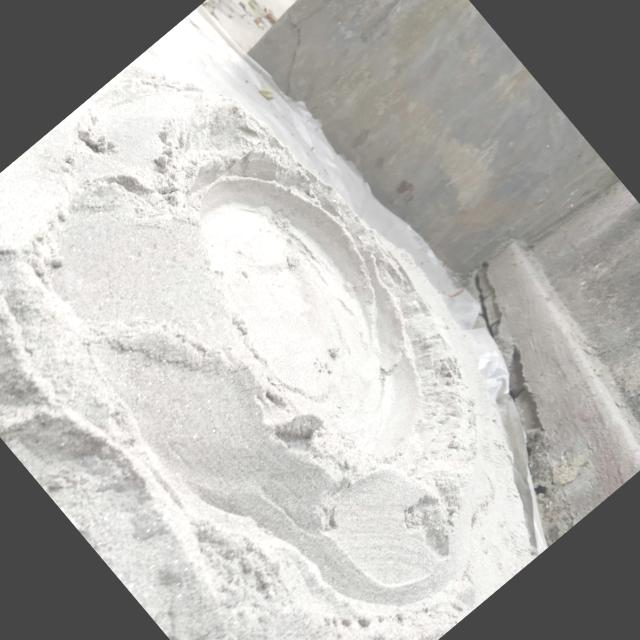C40: (189, 176, 434, 472)
